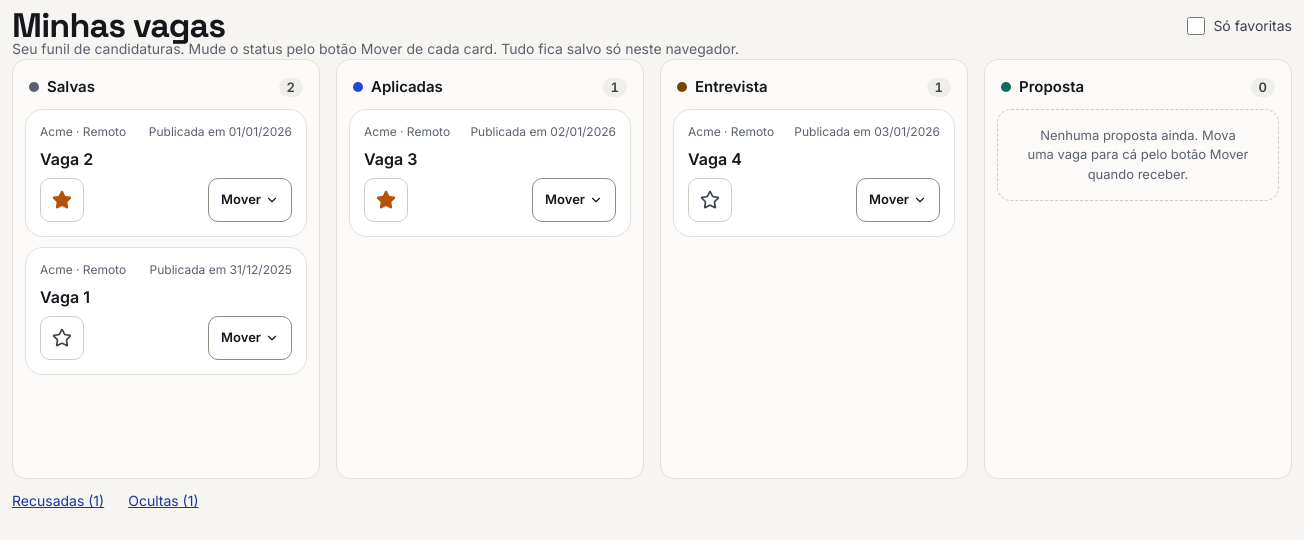
Board (funil) › Só favoritas filtra as 4 colunas
The image size is (1304, 540).
Click the checkbox labelled "Só favoritas" at [1196, 26], box [1187,16,1205,34]
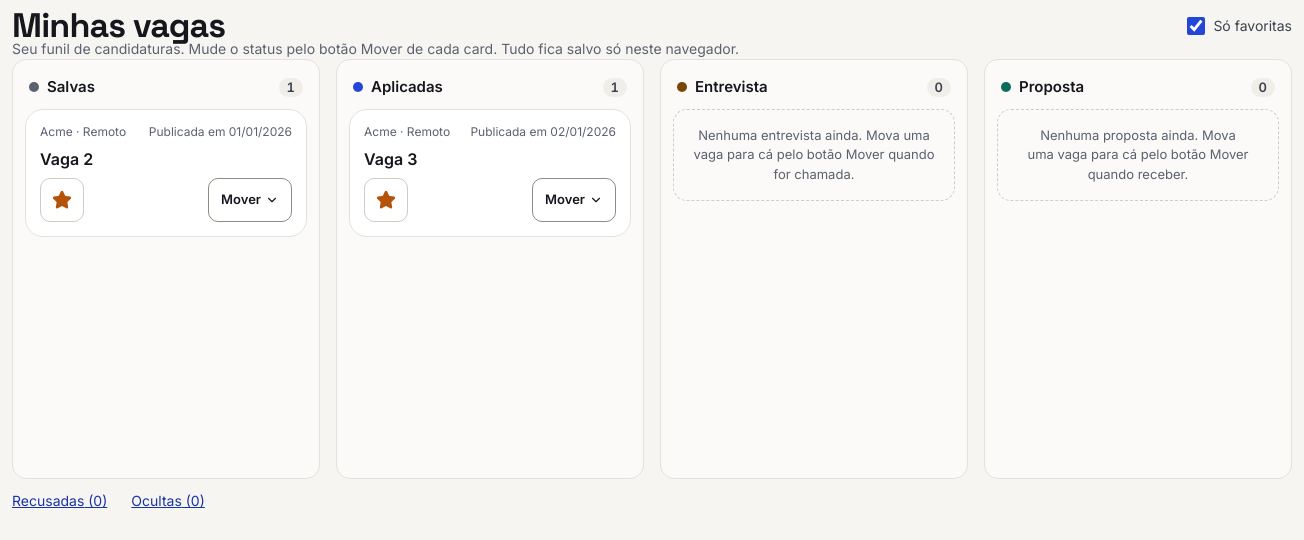
Check: the button "Recusadas (0)" is shown, box [12,479,107,523]
